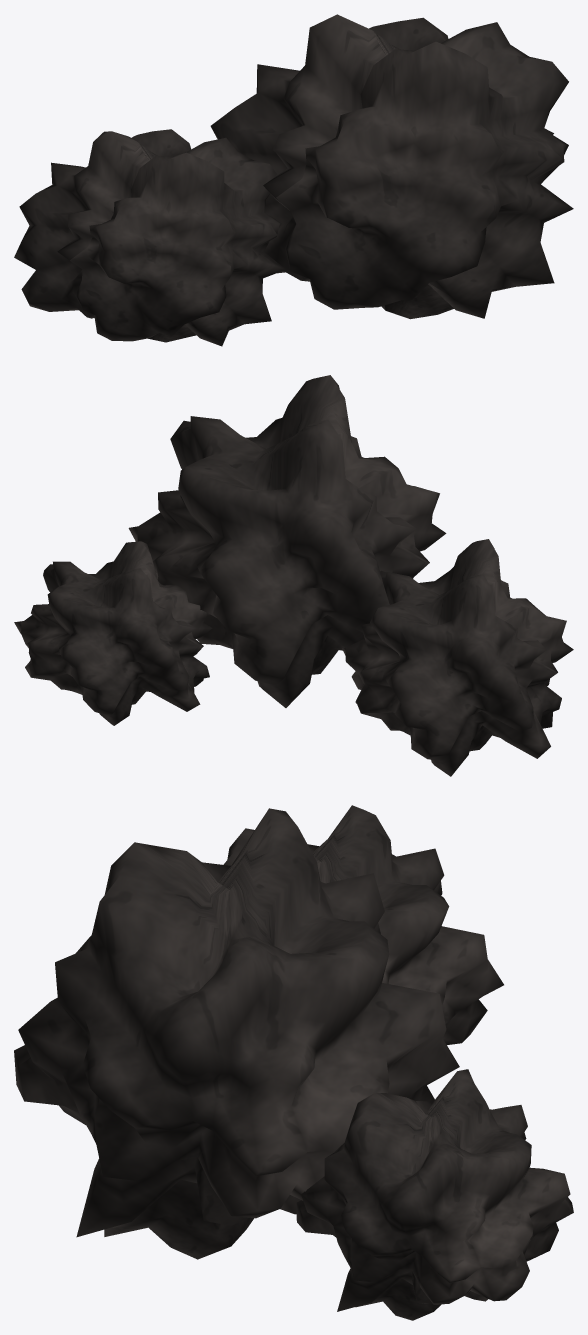
File: PROJECT_Z_VR26_06_Lava_Boulder_Cluster.glb
3 renders of one model, top to bottom at view 1: azimuth 30°, elevation 25°; view 2: azimuth 150°, elevation 25°; view 3: azimuth 270°, elevation 25°, orthographic. The views are drawn at different scales.
Visible parts, largest first — view 1: 06_Lava_Boulder_Cluster__RENDER_Cooled_Boulder_02, 06_Lava_Boulder_Cluster__RENDER_Cooled_Boulder_01; view 2: 06_Lava_Boulder_Cluster__RENDER_Cooled_Boulder_02, 06_Lava_Boulder_Cluster__RENDER_Cooled_Boulder_01, 06_Lava_Boulder_Cluster__RENDER_Cooled_Boulder_03; view 3: 06_Lava_Boulder_Cluster__RENDER_Cooled_Boulder_02, 06_Lava_Boulder_Cluster__RENDER_Cooled_Boulder_03, 06_Lava_Boulder_Cluster__RENDER_Cooled_Boulder_01.
Boxes of the visible parts, left/top/right/bottom form: 06_Lava_Boulder_Cluster__RENDER_Cooled_Boulder_02: left=210, top=14, right=573, bottom=319; 06_Lava_Boulder_Cluster__RENDER_Cooled_Boulder_01: left=14, top=129, right=285, bottom=346; 06_Lava_Boulder_Cluster__RENDER_Cooled_Boulder_02: left=128, top=375, right=446, bottom=707; 06_Lava_Boulder_Cluster__RENDER_Cooled_Boulder_01: left=342, top=539, right=573, bottom=776; 06_Lava_Boulder_Cluster__RENDER_Cooled_Boulder_03: left=14, top=541, right=212, bottom=725; 06_Lava_Boulder_Cluster__RENDER_Cooled_Boulder_02: left=14, top=808, right=459, bottom=1259; 06_Lava_Boulder_Cluster__RENDER_Cooled_Boulder_03: left=296, top=1069, right=573, bottom=1320; 06_Lava_Boulder_Cluster__RENDER_Cooled_Boulder_01: left=223, top=805, right=503, bottom=1044.
Bounding box in the file's own units: 2.8 × 1.5 × 1.91.
Materials: 1 (1 with a texture image).
